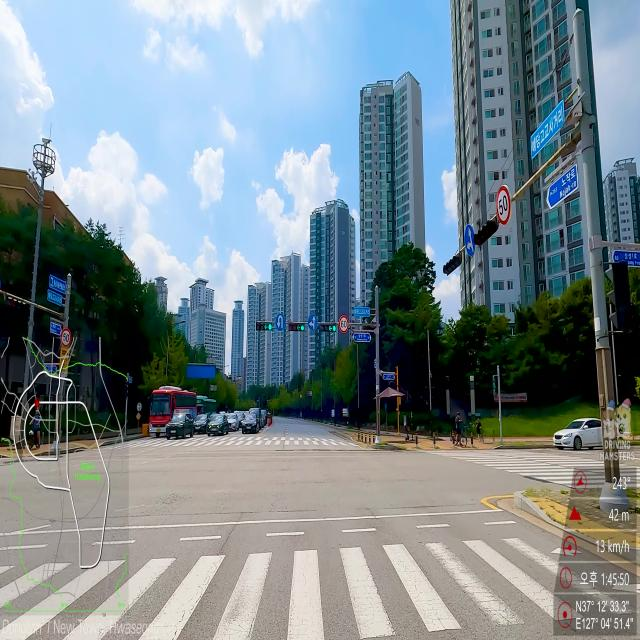Green Light: (268, 324, 272, 330), (301, 324, 304, 331), (333, 326, 336, 332)
